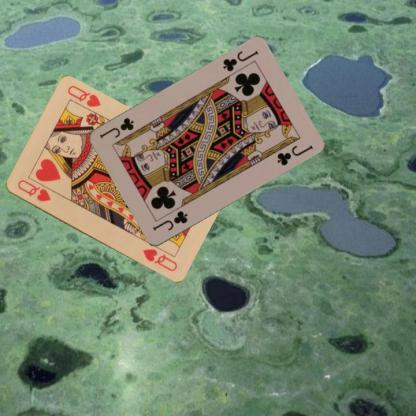Jc: (220, 48, 260, 73), (150, 208, 189, 233)
Qh: (14, 177, 52, 203)
